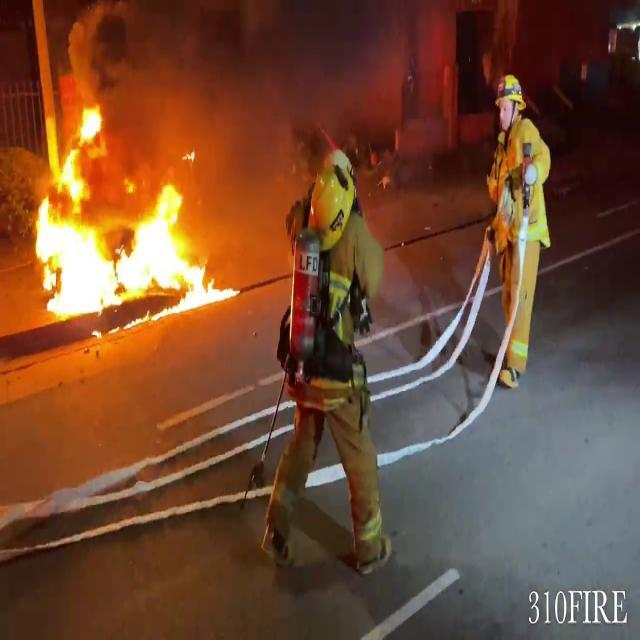Fire: (23, 101, 229, 323)
Smoke: (89, 3, 398, 214)
